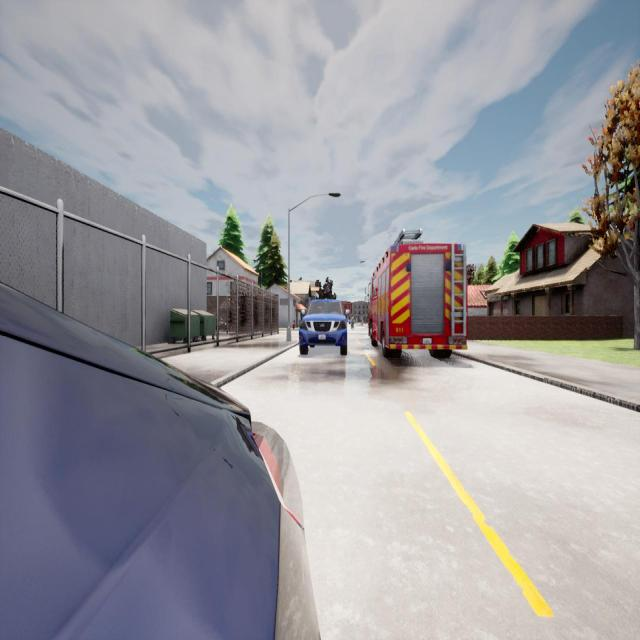Pedestrian: (351, 314, 355, 330)
Vehicle: (0, 280, 320, 639), (368, 229, 468, 359), (299, 300, 347, 356)
